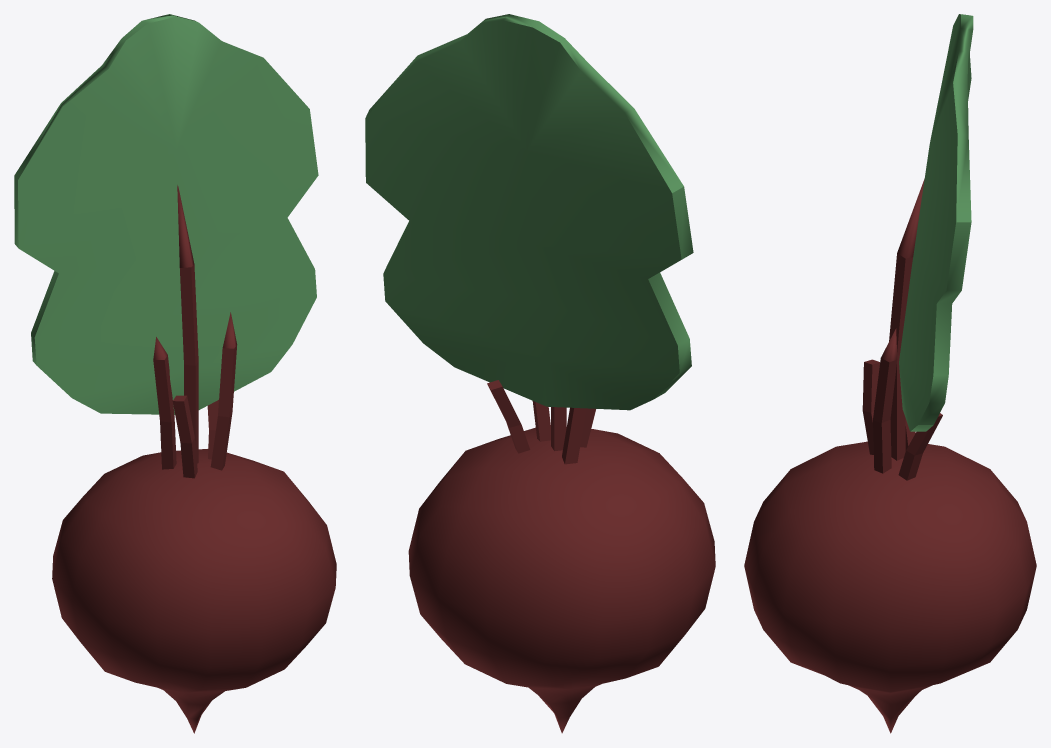
The model's file is Beetv1.fbx.
3 views of the same model, side by side, from view 1: azimuth 30°, elevation 25°; view 2: azimuth 150°, elevation 25°; view 3: azimuth 270°, elevation 25° (orthographic). The views are drawn at different scales.
Parts seen in each view (by area): view 1: Leaf, Body, Stick2, Stick, Stick3, Stick1; view 2: Leaf, Body, Stick4, Stick3, Stick2, Stick; view 3: Body, Leaf, Stick2, Stick, Stick1, Stick4.
Boxes of the visible parts, box(x1,y1,x2,y2) form: Leaf: box(14, 14, 318, 414); Body: box(52, 449, 336, 733); Stick2: box(177, 185, 198, 463); Stick: box(210, 312, 237, 470); Stick3: box(153, 337, 176, 469); Stick1: box(172, 395, 197, 478); Leaf: box(365, 14, 693, 410); Body: box(408, 427, 715, 733); Stick4: box(487, 380, 530, 453); Stick3: box(562, 407, 586, 464); Stick2: box(551, 407, 566, 451); Stick: box(532, 401, 550, 441); Body: box(744, 441, 1036, 733); Leaf: box(899, 14, 973, 431); Stick2: box(889, 179, 924, 460); Stick: box(873, 328, 897, 473); Stick1: box(862, 359, 879, 454); Stick4: box(898, 413, 942, 480).
Bounding box in the file's own units: 1.08 × 2.36 × 0.8785.
